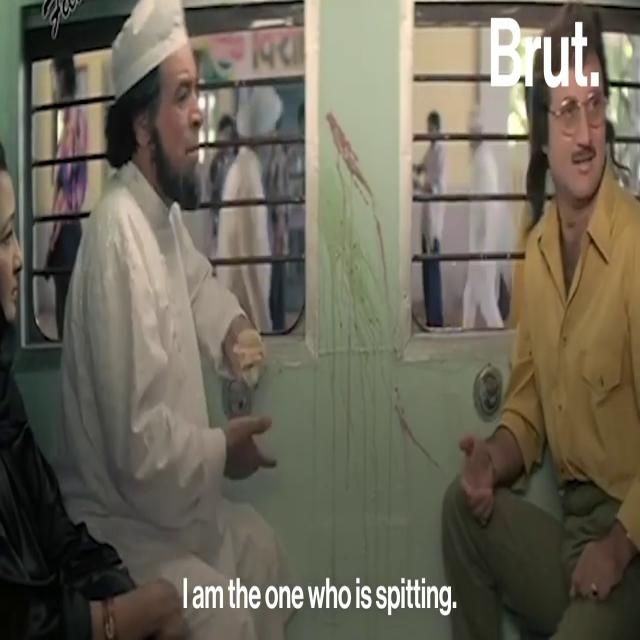spit: (308, 95, 405, 398)
